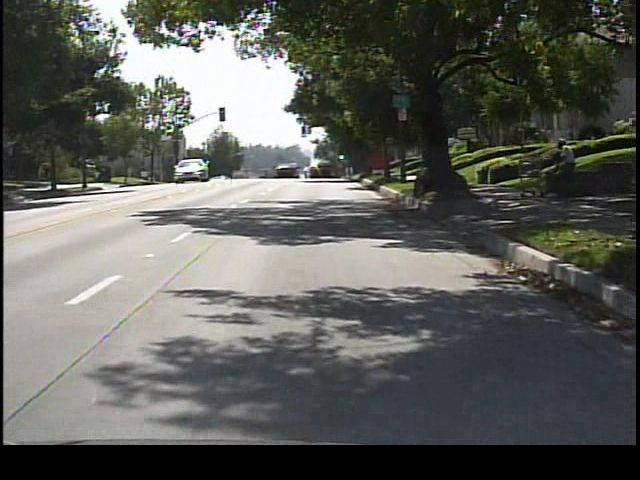person: (547, 136, 579, 206)
